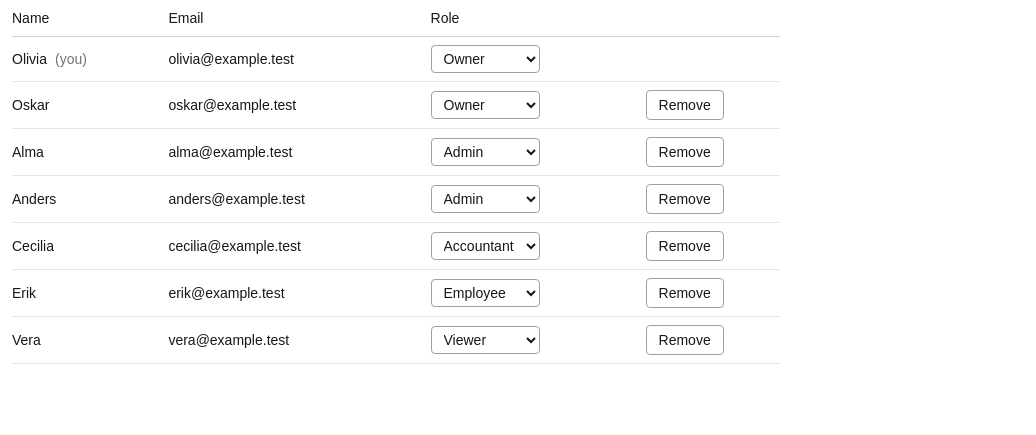
Test: MembersAdmin › a stale screen refused with 403 shows a safe message, claims no success and refreshes
Select "Viewer" in the 2nd dropdown with test id "member-role" at (485, 105), box [430,91,540,119]
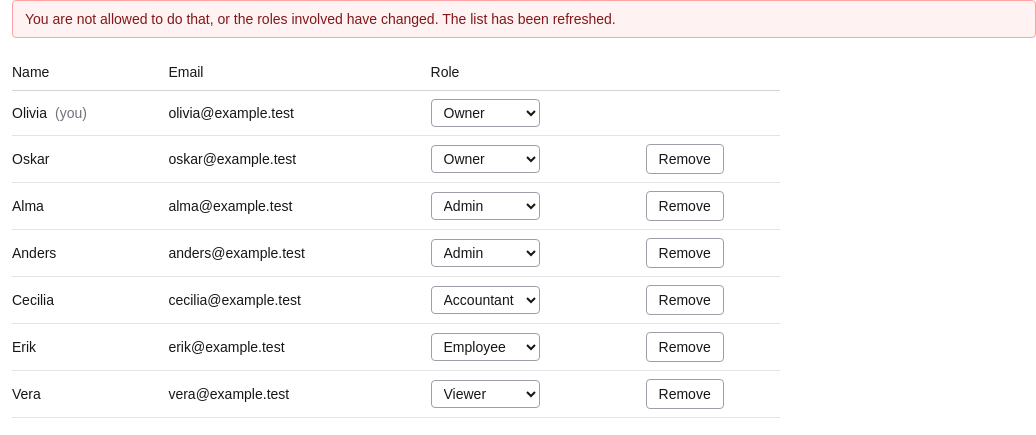
Expected: the message with test id "members-message" does not show "is now", [12,0,1035,38]
Result: the message with test id "members-message" shows "not allowed to do that" at [25,11,616,27]
